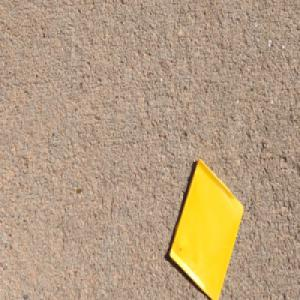PlasticPart: (167, 156, 244, 300)
